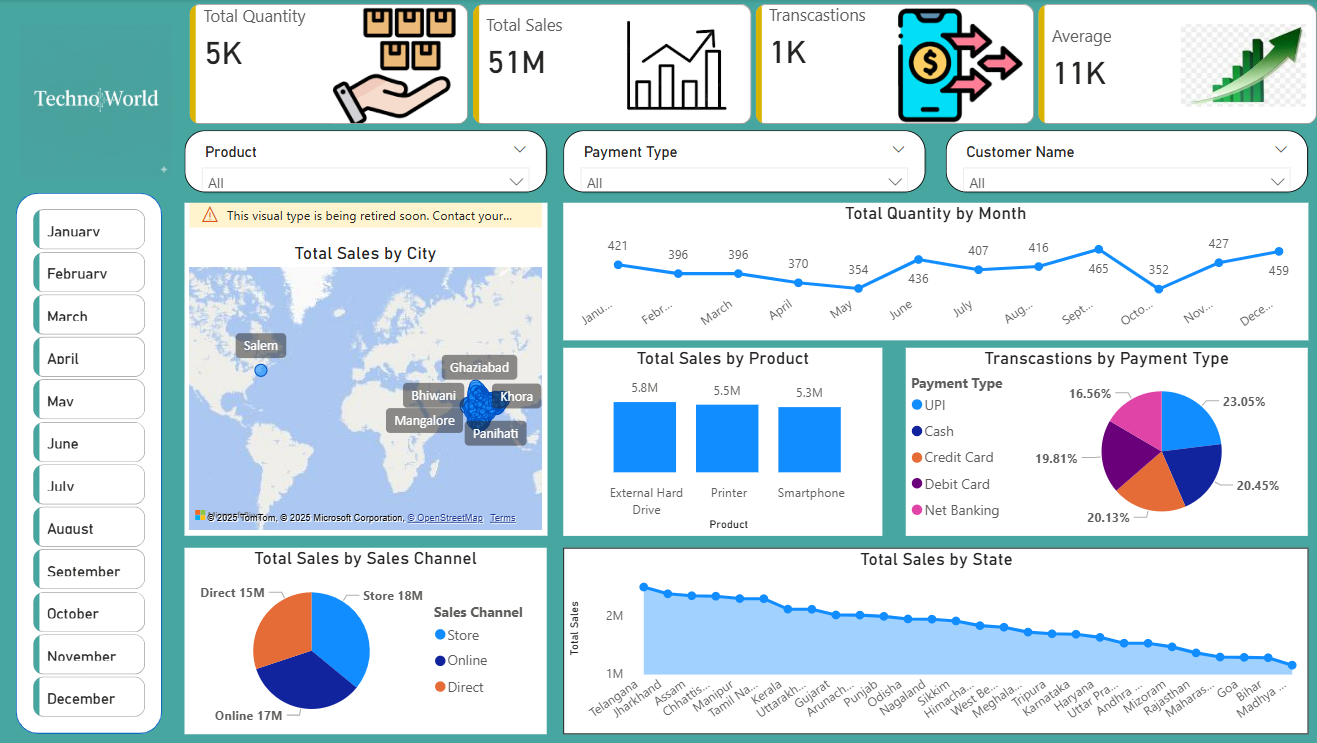

This screenshot's page, from the dashboard's own definition file:
{"tool":"powerbi","page":{"name":"Page 1","canvas":[1280,720],"ordinal":0},"visuals":[{"type":"shape","box":[18.6,186.9,141.3,522.3],"z":0},{"type":"advancedSlicerVisual","fields":{"Values":["TechyStore Sales_Data.Sales Date.Variation.Date Hierarchy.Month"]},"box":[30,198.4,118.4,510.9],"z":1000},{"type":"cardVisual","fields":{"Data":["Sales_Data.Total Quantity","Sales_Data.Total Sales","Sales_Data.Transcastions","Sales_Data.Average"]},"box":[181.2,42.8,1098.8,84.2],"z":2000},{"type":"map","fields":{"Category":["Sales_Data.City"],"Size":["Sales_Data.Total Sales"]},"box":[181.2,196.9,349.6,321.1],"z":3000},{"type":"lineChart","fields":{"Y":["Sales_Data.Total Quantity"],"Category":["Sales_Data.Sales Date.Variation.Date Hierarchy.Month","Sales_Data.Sales Date.Variation.Date Hierarchy.Day"]},"box":[546.5,196.9,719.2,132.7],"z":4000},{"type":"clusteredColumnChart","fields":{"Y":["Sales_Data.Total Sales"],"Category":["Sales_Data.Product"]},"box":[546.5,336.8,308.2,181.2],"z":5000},{"type":"pieChart","fields":{"Category":["Sales_Data.Payment Type"],"Y":["Sales_Data.Transcastions"]},"box":[877.6,336.8,388.1,181.2],"z":6000},{"type":"pieChart","fields":{"Category":["Sales_Data.Sales Channel"],"Y":["Sales_Data.Total Sales"]},"box":[181.2,529.4,349.6,179.8],"z":7000},{"type":"areaChart","fields":{"Y":["Sales_Data.Total Sales"],"Category":["Sales_Data.State"]},"box":[546.5,529.4,719.2,179.8],"z":8000},{"type":"slicer","fields":{"Values":["Sales_Data.Product"]},"box":[181.2,127,349.6,59.9],"z":9000},{"type":"slicer","fields":{"Values":["Sales_Data.Payment Type"]},"box":[546.5,127,349.6,59.9],"z":10000},{"type":"slicer","fields":{"Values":["Sales_Data.Customer Name"]},"box":[916.1,127,349.6,59.9],"z":11000},{"type":"image","box":[11.4,40,169.8,157],"z":12000}]}

Visuals, with their boxes in screenshot pixels (x1, y1, x2, y2), scaled from the page's 1280x720 canvas onto the 1317x743 screenshot:
shape: [19, 193, 165, 732]
advancedSlicerVisual - TechyStore Sales_Data.Sales Date.Variation.Date Hierarchy.Month: [31, 205, 153, 732]
cardVisual - Sales_Data.Total Quantity x Sales_Data.Total Sales: [186, 44, 1316, 131]
map - Sales_Data.City x Sales_Data.Total Sales: [186, 203, 546, 535]
lineChart - Sales_Data.Total Quantity x Sales_Data.Sales Date.Variation.Date Hierarchy.Month: [562, 203, 1302, 340]
clusteredColumnChart - Sales_Data.Total Sales x Sales_Data.Product: [562, 348, 879, 535]
pieChart - Sales_Data.Payment Type x Sales_Data.Transcastions: [903, 348, 1302, 535]
pieChart - Sales_Data.Sales Channel x Sales_Data.Total Sales: [186, 546, 546, 732]
areaChart - Sales_Data.Total Sales x Sales_Data.State: [562, 546, 1302, 732]
slicer - Sales_Data.Product: [186, 131, 546, 193]
slicer - Sales_Data.Payment Type: [562, 131, 922, 193]
slicer - Sales_Data.Customer Name: [943, 131, 1302, 193]
image: [12, 41, 186, 203]
